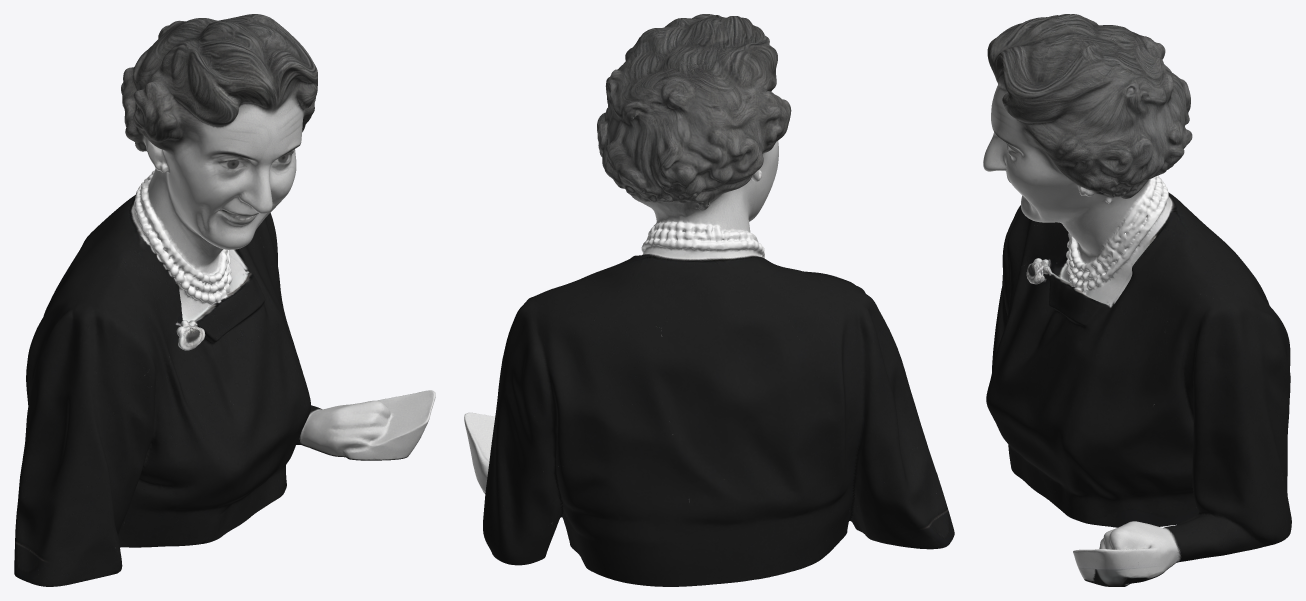
Rendered from Pearls_and_Poise_IngridofSweden.glb.
3 renders of one model, left to right at view 1: azimuth 30°, elevation 25°; view 2: azimuth 150°, elevation 25°; view 3: azimuth 270°, elevation 25°, orthographic. The views are drawn at different scales.
Bounding box in the file's own units: 1.85 × 1.9 × 1.12.
1 material, 1 textured.
